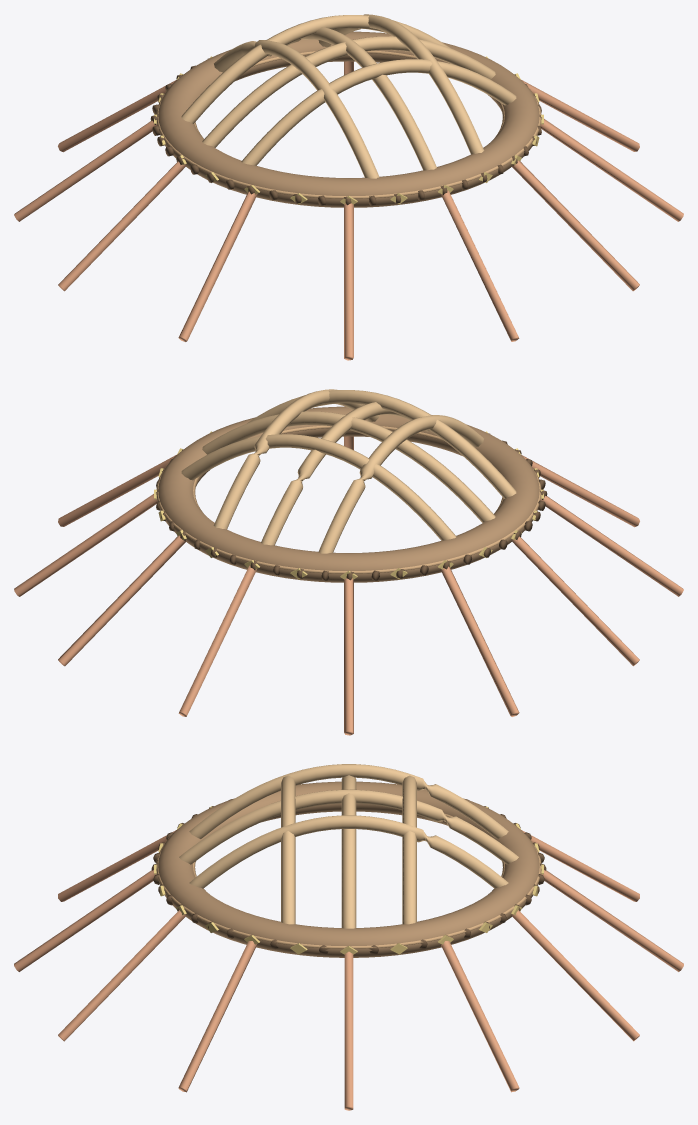
Rendered from shanyraq.glb.
3 renders of one model, top to bottom at view 1: azimuth 30°, elevation 25°; view 2: azimuth 150°, elevation 25°; view 3: azimuth 270°, elevation 25°, orthographic.
Parts seen in each view (by area): view 1: kuldiresh (×6), ring, uyk (×9), ring-top; view 2: kuldiresh (×6), ring, uyk (×9), ring-top; view 3: kuldiresh (×6), ring, uyk (×9), ring-top.
Boxes of the visible parts, box(x1,y1,x2,y2) form: kuldiresh (×6): box(181, 14, 516, 178); ring: box(158, 31, 539, 207); uyk (×9): box(14, 80, 683, 360); ring-top: box(156, 50, 541, 198); kuldiresh (×6): box(181, 389, 516, 553); ring: box(158, 406, 539, 582); uyk (×9): box(14, 455, 683, 735); ring-top: box(156, 425, 541, 573); kuldiresh (×6): box(179, 764, 518, 928); ring: box(158, 781, 539, 957); uyk (×9): box(14, 830, 683, 1110); ring-top: box(156, 813, 541, 948).
Bounding box in the file's own units: 4.64 × 1.39 × 4.64.
